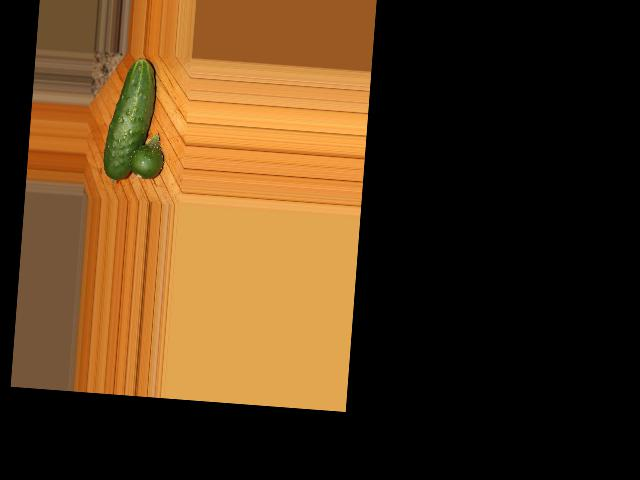cucumber: (102, 55, 158, 182)
